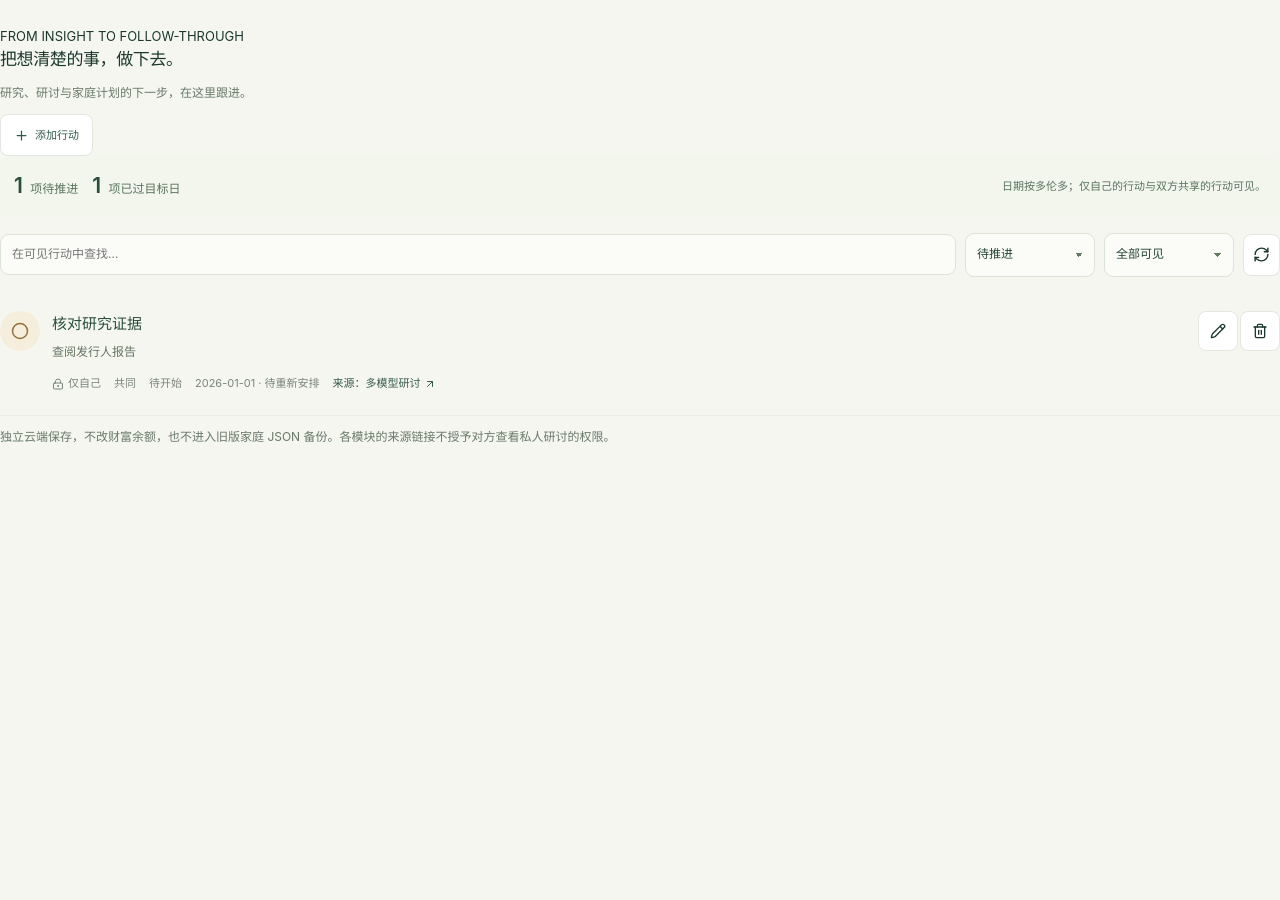
it: 保存失败保留编辑草稿；不更改可见范围或来源
The width and height of the screenshot is (1280, 900).
Click the button named "编辑行动：核对研究证据" at (1218, 331), box [1198, 311, 1238, 351]
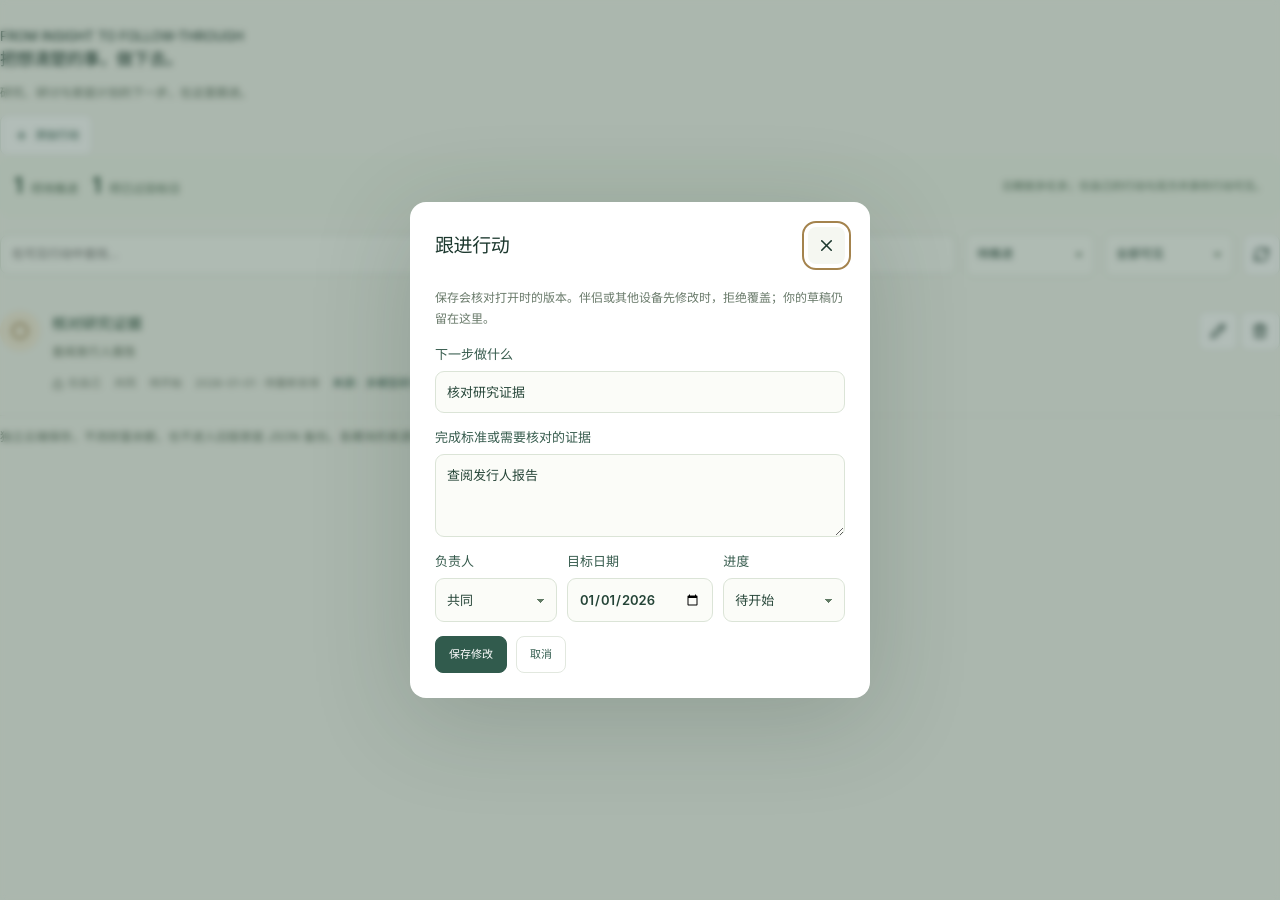
Replace the text in the field named "行动标题" with "我的新草稿" at (640, 392), box [435, 371, 845, 413]
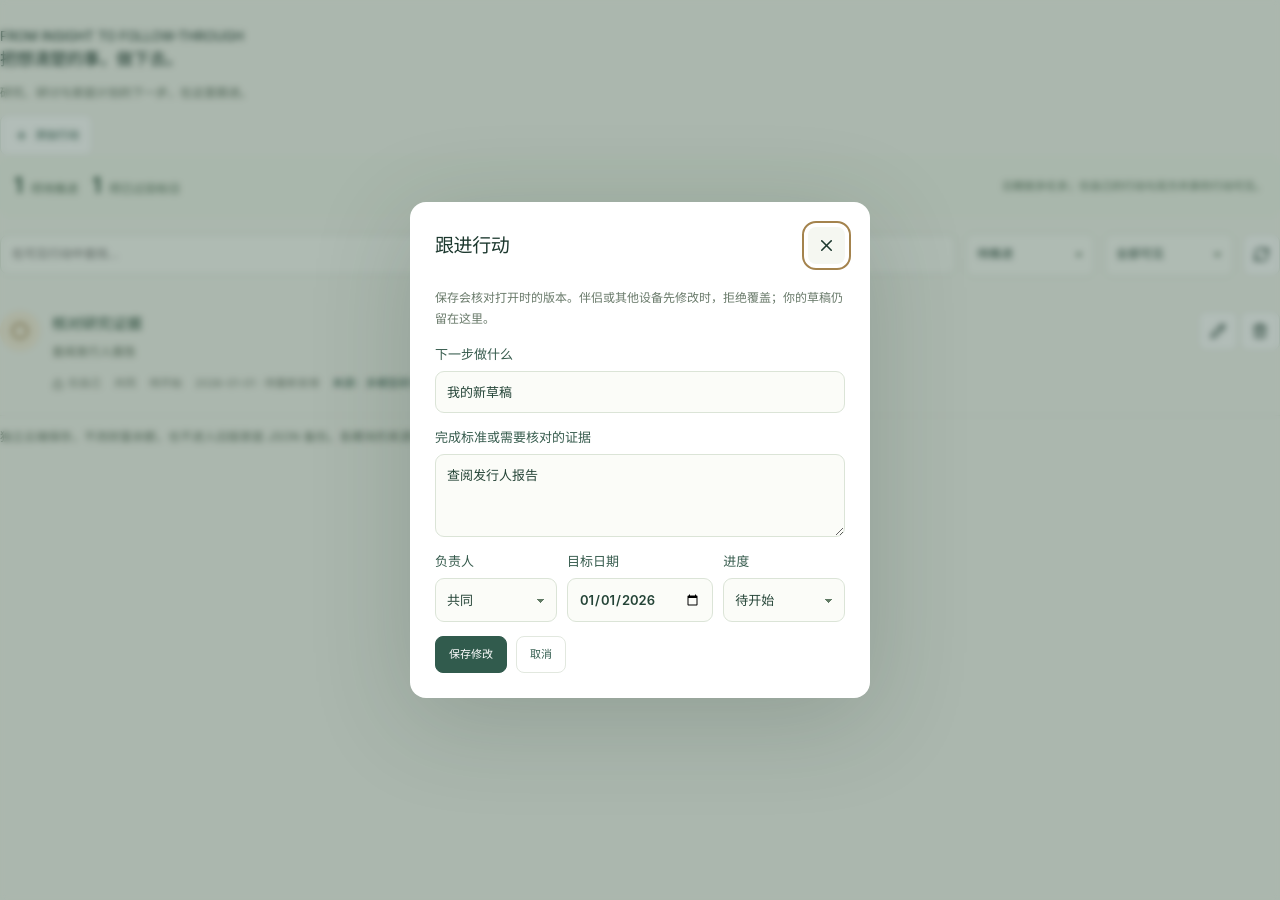
Click the button "保存修改" at (471, 655), box [435, 636, 507, 673]
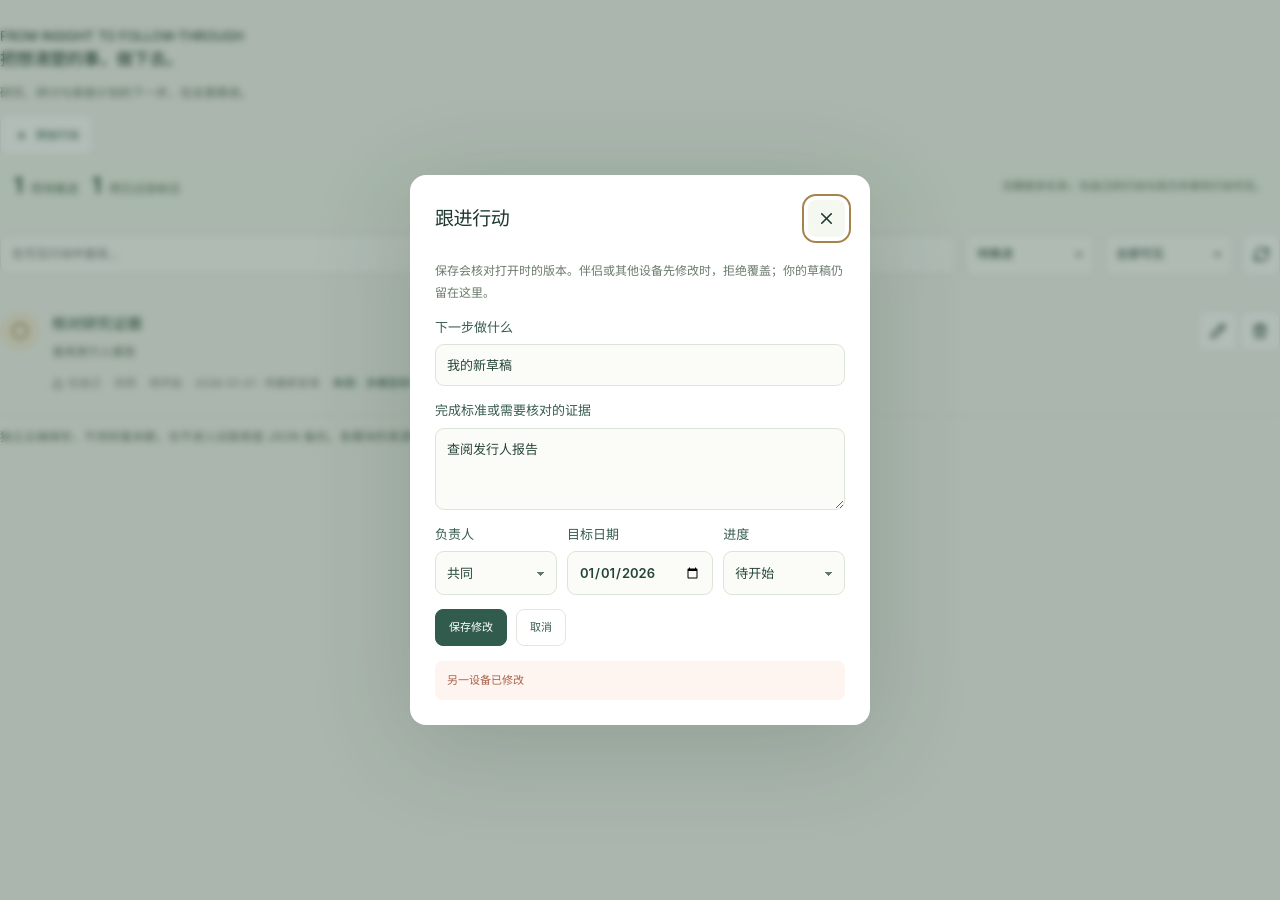
Now the message reads "另一设备已修改", box [447, 673, 524, 687]
